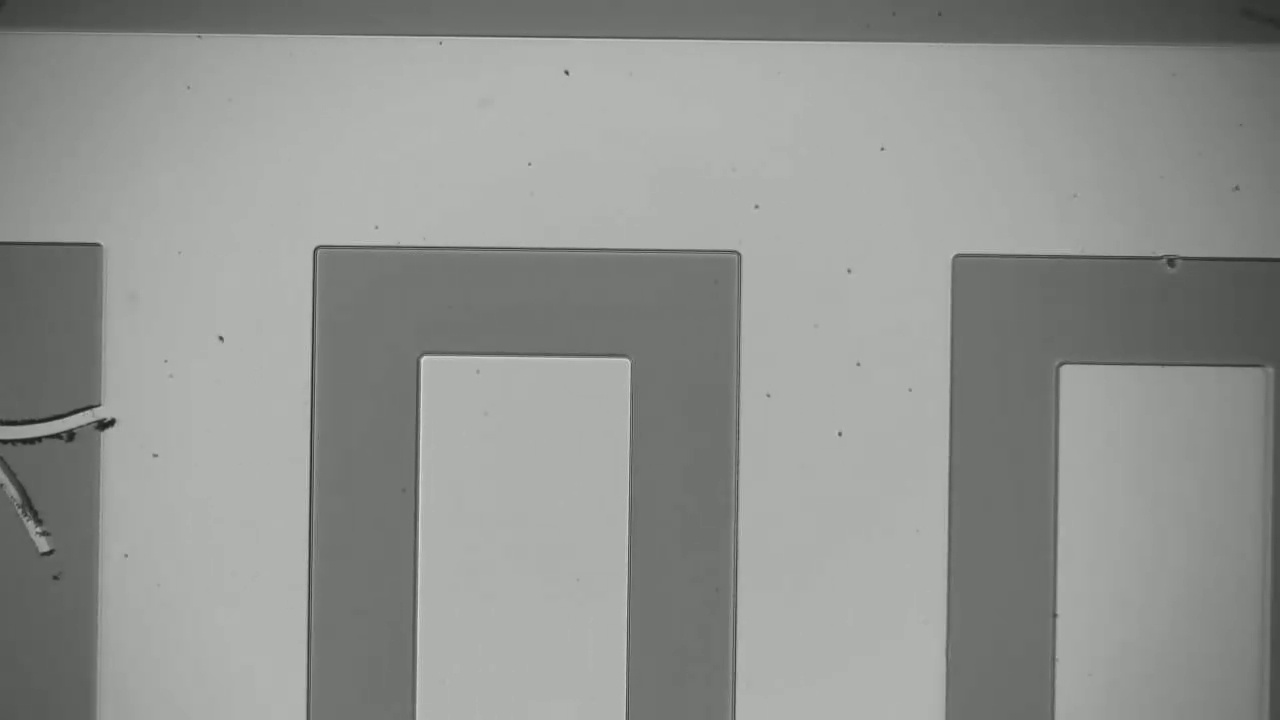Short_circuit: (0, 377, 134, 469)
